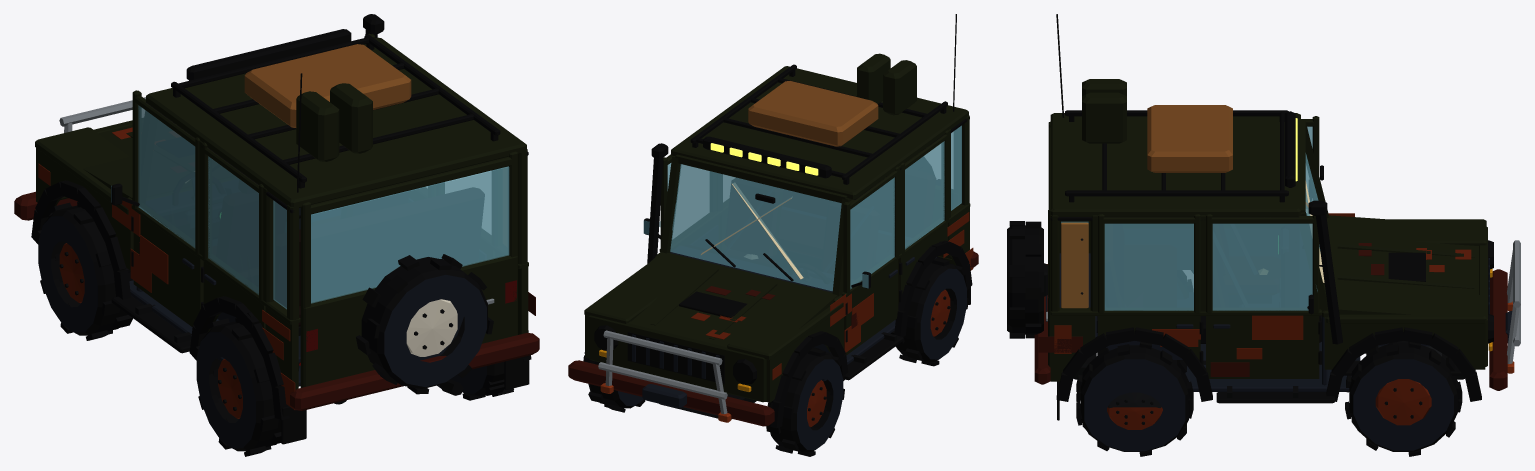
The model's file is SM_Veh_Ranger4x4.glb.
The picture shows the model from 3 angles, left to right: view 1: azimuth 30°, elevation 25°; view 2: azimuth 150°, elevation 25°; view 3: azimuth 270°, elevation 25°; orthographic projection. The views are drawn at different scales.
Parts seen in each view (by area): view 1: Body_P1, Tailgate_P2, Interior_P1, Tailgate_P3, Body_P2, Tailgate_P1, Body_P3, Wheel_FL_P1, Wheel_RL_P1, Door_FL_P1, Door_FL_P2, Door_FL_P3 (+7 smaller); view 2: Body_P1, Body_P3, Body_P2, Interior_P1, Hood_P1, Wheel_FL_P1, Wheel_RL_P1, Door_FL_P1, Door_FL_P2, Door_FL_P3, Door_RL_P2, Door_RL_P3 (+6 smaller); view 3: Body_P1, Door_FR_P1, Body_P2, Interior_P1, Wheel_FR_P1, Hood_P1, Door_FR_P2, Door_RR_P2, Door_RR_P3, Body_P3, Wheel_RR_P2, Wheel_RR_P1 (+7 smaller).
Part boxes in pixels (<box>): Body_P1: <box>14,37,539,444</box>; Tailgate_P2: <box>311,166,509,394</box>; Interior_P1: <box>146,179,484,362</box>; Tailgate_P3: <box>311,166,508,303</box>; Body_P2: <box>171,34,516,351</box>; Tailgate_P1: <box>300,151,517,387</box>; Body_P3: <box>59,14,384,308</box>; Wheel_FL_P1: <box>36,202,133,340</box>; Wheel_RL_P1: <box>194,318,281,456</box>; Door_FL_P1: <box>130,90,203,326</box>; Door_FL_P2: <box>111,105,195,247</box>; Door_FL_P3: <box>138,106,194,247</box>; Body_P1: <box>568,66,978,428</box>; Body_P3: <box>598,14,961,414</box>; Body_P2: <box>670,64,961,290</box>; Interior_P1: <box>670,168,935,292</box>; Hood_P1: <box>622,252,837,344</box>; Wheel_FL_P1: <box>766,347,844,456</box>; Wheel_RL_P1: <box>890,256,968,366</box>; Door_FL_P1: <box>843,166,899,355</box>; Door_FL_P2: <box>850,177,894,288</box>; Door_FL_P3: <box>850,178,894,288</box>; Door_RL_P2: <box>905,141,944,249</box>; Door_RL_P3: <box>905,141,944,248</box>; Body_P1: <box>1034,113,1514,420</box>; Door_FR_P1: <box>1206,214,1321,378</box>; Body_P2: <box>1061,105,1324,308</box>; Interior_P1: <box>1059,165,1323,337</box>; Wheel_FR_P1: <box>1345,342,1462,456</box>; Hood_P1: <box>1327,215,1478,314</box>; Door_FR_P2: <box>1213,224,1312,310</box>; Door_RR_P2: <box>1104,223,1193,310</box>; Door_RR_P3: <box>1105,224,1193,310</box>; Body_P3: <box>1056,14,1520,363</box>; Wheel_RR_P2: <box>1076,342,1193,456</box>; Wheel_RR_P1: <box>1076,376,1193,456</box>.
Size of the model in its own units: 2.15 by 2.89 by 3.9.
2 materials, 2 textured.
